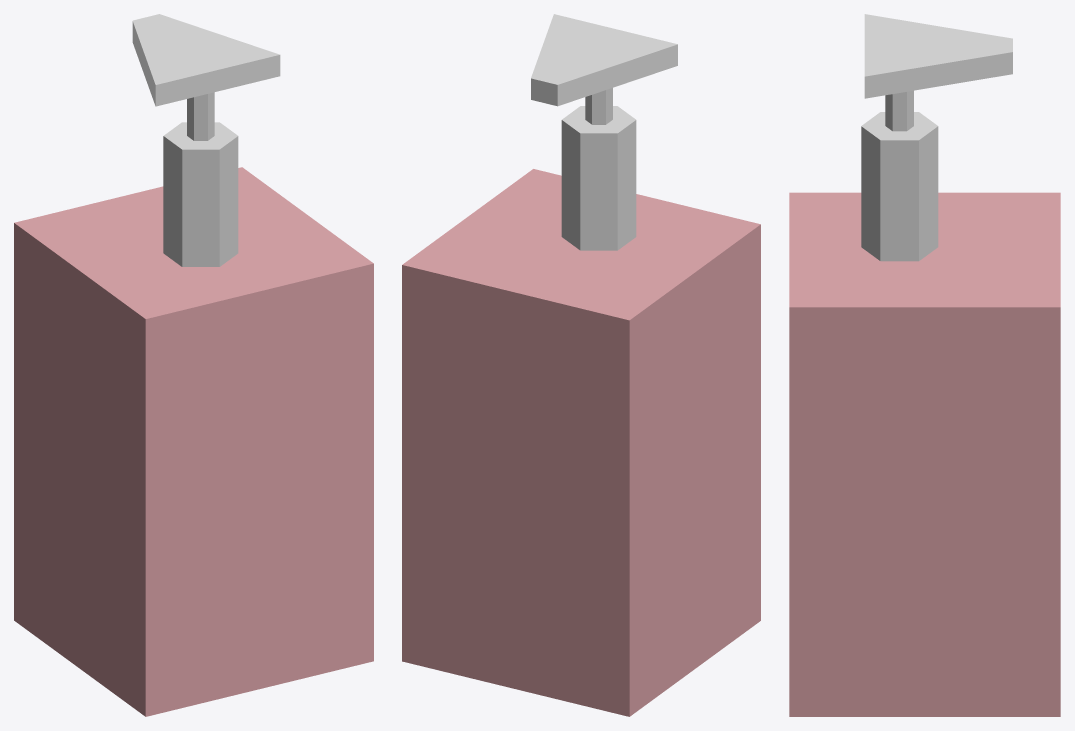
Rendered from liquid_soap.fbx.
3 views of the same model, side by side, from view 1: azimuth 30°, elevation 25°; view 2: azimuth 150°, elevation 25°; view 3: azimuth 270°, elevation 25° (orthographic). The views are drawn at different scales.
Visible parts, largest first — view 1: liquid soap; view 2: liquid soap; view 3: liquid soap.
Boxes of the visible parts, <box> form: liquid soap: <box>14,14,373,716</box>; liquid soap: <box>402,14,760,716</box>; liquid soap: <box>789,14,1060,716</box>.
Bounding box in the file's own units: 21.66 × 53.85 × 21.66.
